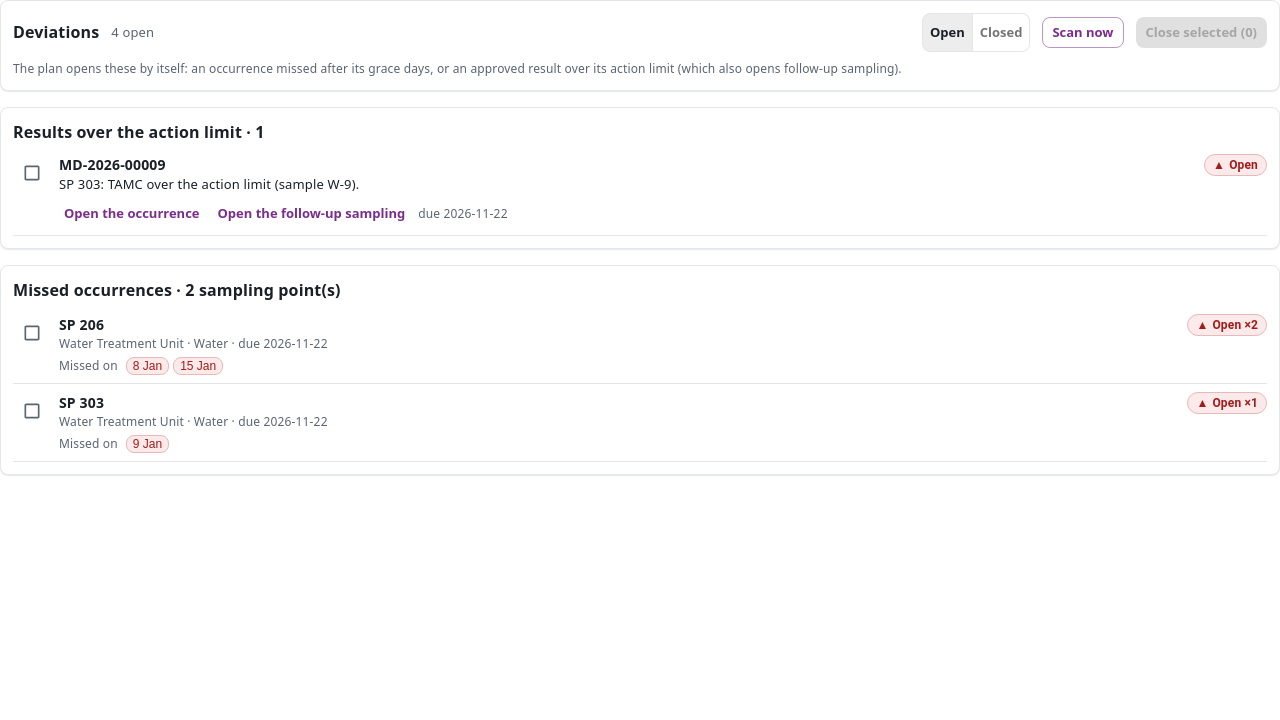
DeviationsPanel › scans on demand and reports what it opened
The width and height of the screenshot is (1280, 720).
Expected: the text "Missed occurrences · 2 sampling point(s)" is shown, [13,279,341,301]
Click the button "Scan now" at (1083, 32), box [1042,17,1124,48]
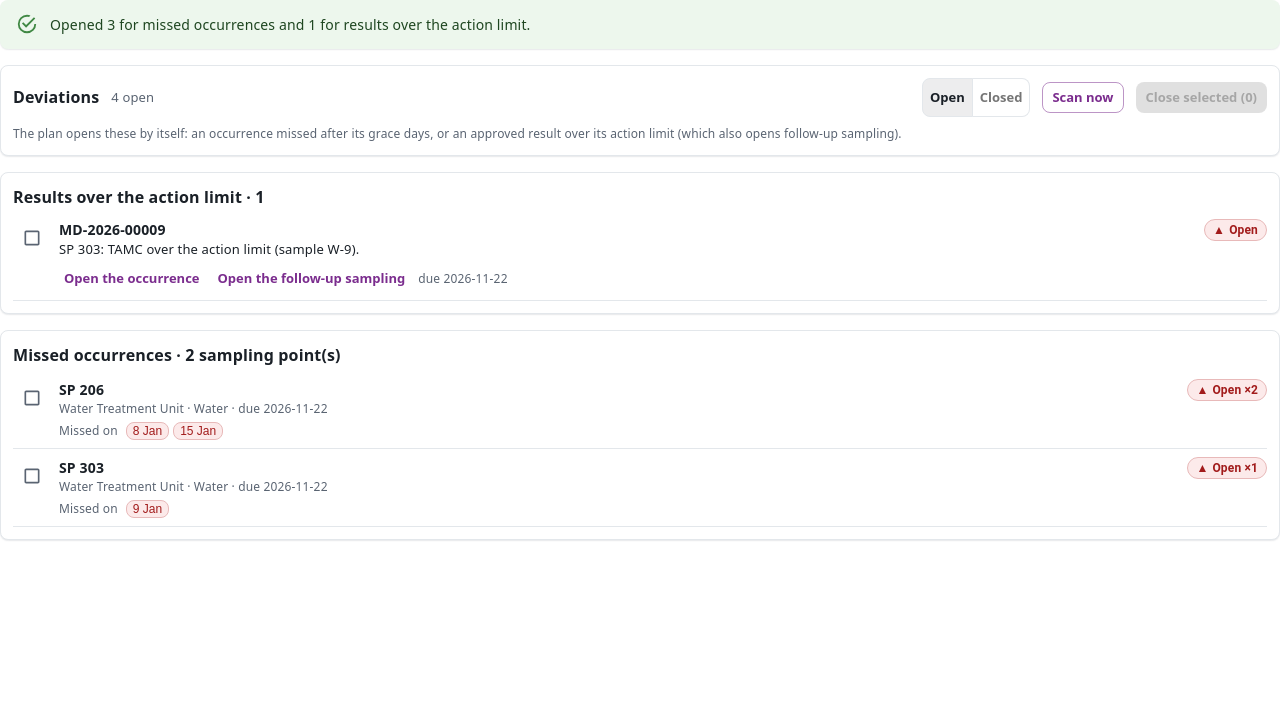
Expected: the text "Opened 3 for missed occurrences and 1 for results over the action limit." is shown, [50,15,530,34]
